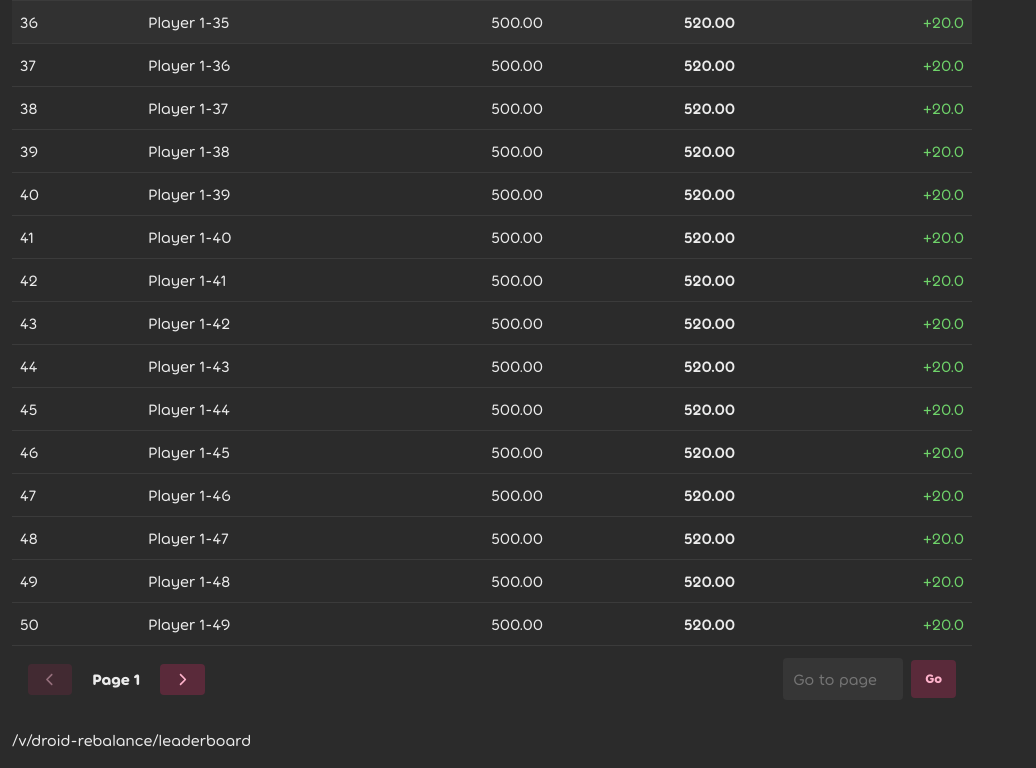
LeaderboardTab › numbers the rows from 1 and continues at 51 on page 2
This screenshot has width=1036, height=768.
(page scrolled)
Click the button named "Next page".
click(182, 679)  # box [160,664,205,694]
(page scrolled)
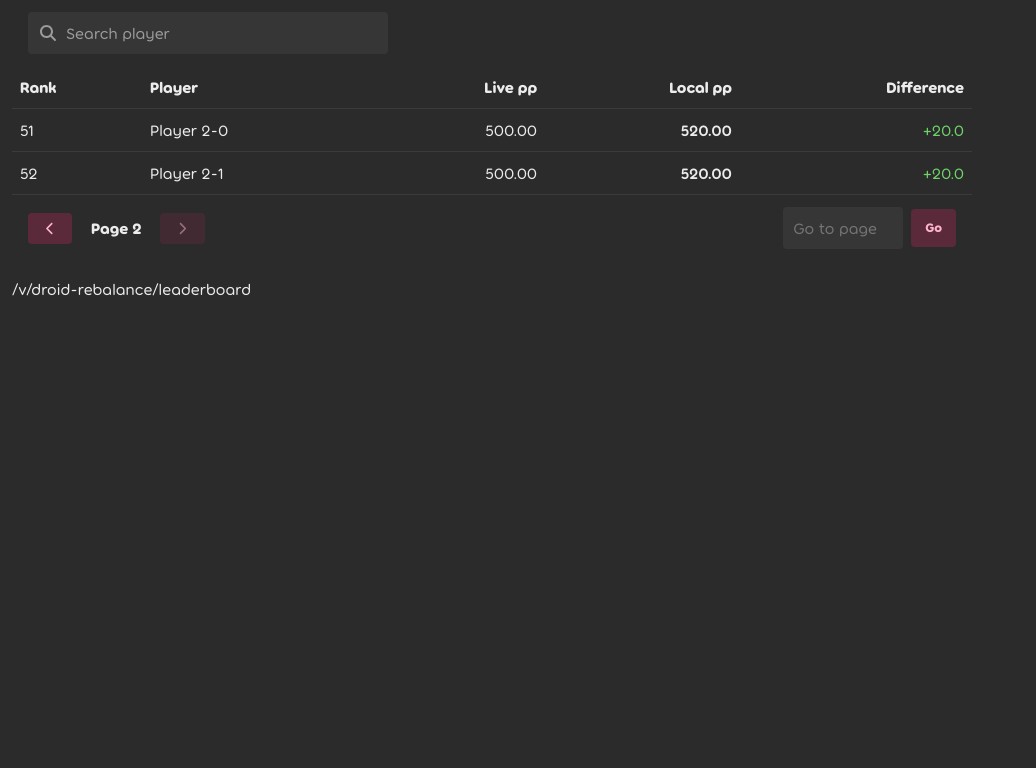
Expected: the cell "51" is shown, [12,108,142,152]
Expected: the text "Page 2" is shown, [91,218,142,237]
Expected: the button named "Next page" is disabled, [160,212,205,244]
